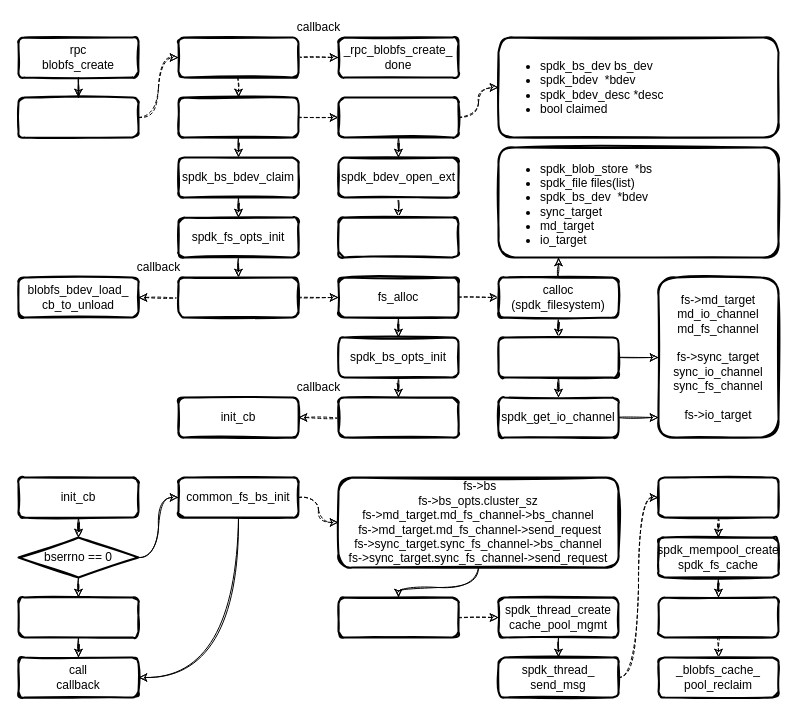
Some shapes in this 796 by 715 pixel diagram are drawn without their labels. Each missing label, with the centre of its shape:
"__start_cache_ pool_mgmt" goes at point 718,497.
"blob_bdev_init" goes at point 398,237.
"calloc (struct blob_bdev)" goes at point 398,117.
"free(fs)" goes at point 78,617.
"initialize_global_cache" goes at point 398,617.
"rpc_blobfs_create" goes at point 78,117.
"spdk_bdev_create_ bs_dev_ext" goes at point 238,117.
"spdk_blobfs_ bdev_create" goes at point 238,57.
"spdk_bs_init" goes at point 398,417.
"spdk_fs_init" goes at point 238,297.
"spdk_io_device_ register" goes at point 558,357.
"SPDK_POLLER_ REGISTER" goes at point 718,617.
